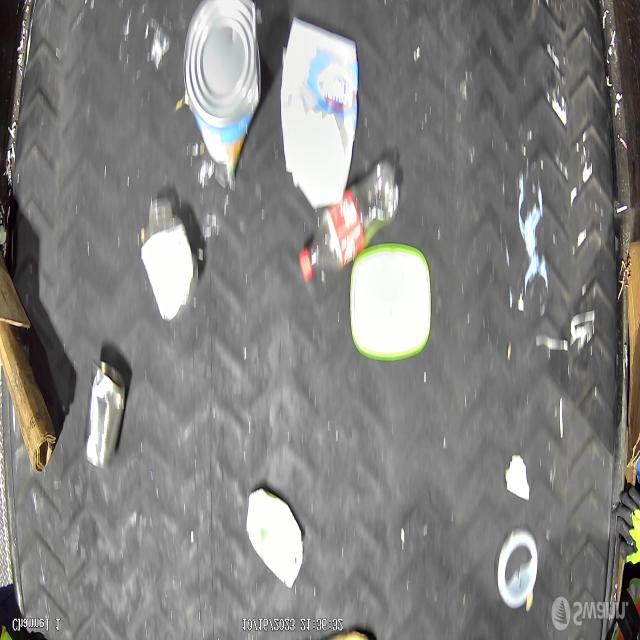can: (182, 0, 262, 190), (84, 358, 127, 471)
plastic_bottle: (298, 158, 401, 283)
